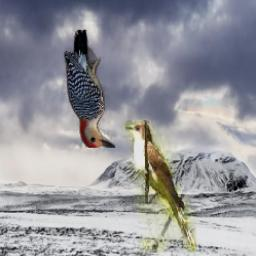Cuckoo: (126, 120, 197, 253)
Woodpecker: (64, 31, 115, 149)
